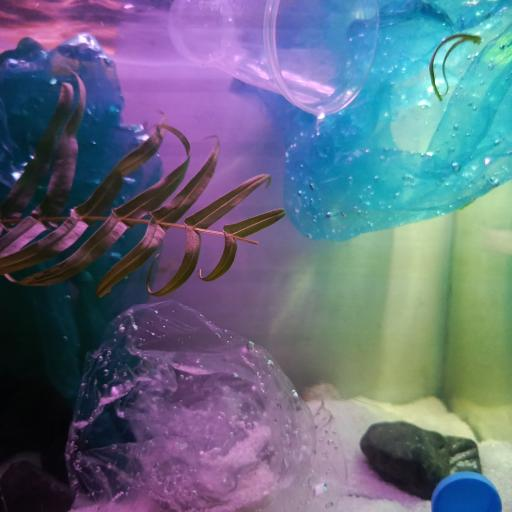bottle_cap: (428, 472, 504, 512)
plastic_bag: (227, 0, 512, 247), (62, 295, 350, 512), (2, 34, 169, 394)
plastic_cup: (164, 0, 384, 114)
